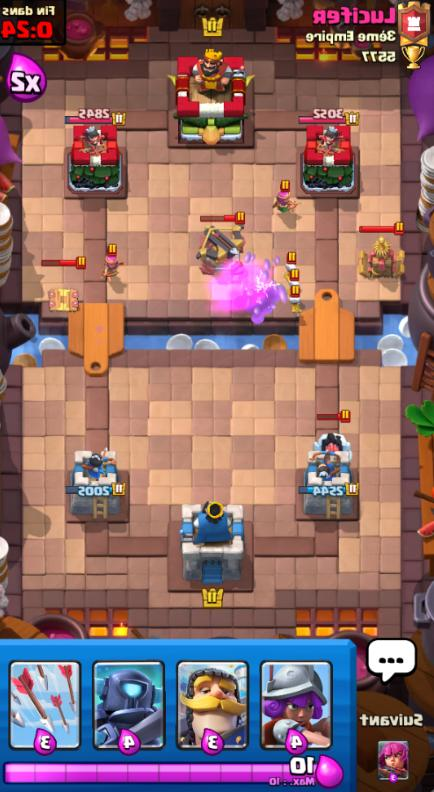archere: (264, 191, 304, 218), (99, 255, 124, 280)
squelette: (283, 294, 306, 319), (282, 262, 298, 277), (284, 278, 302, 289)
